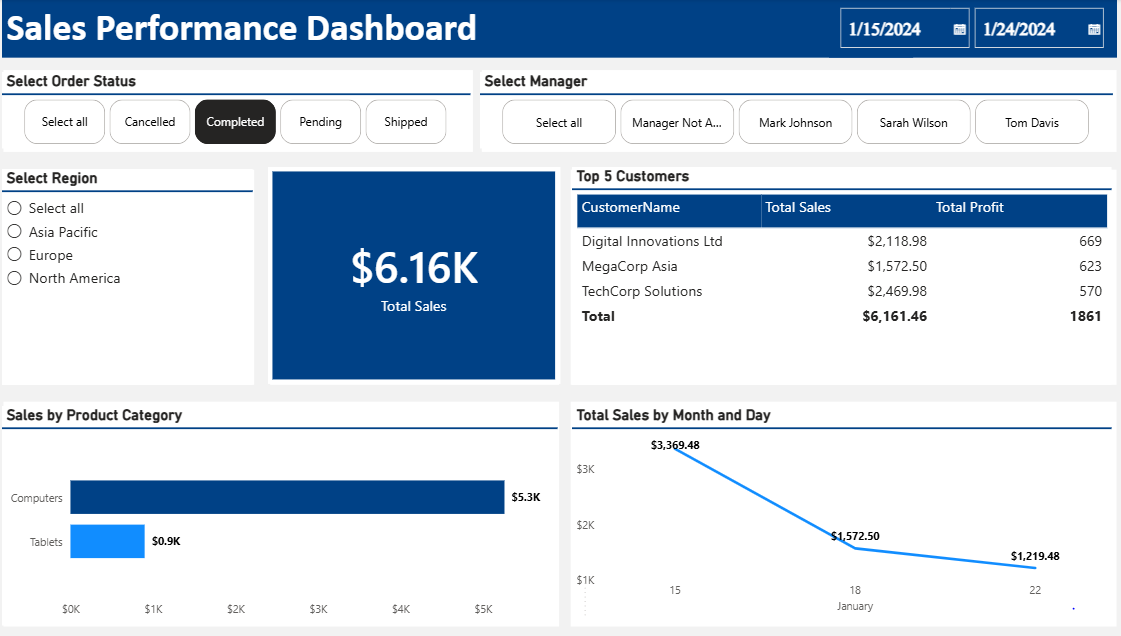

The dashboard page shown, as its layout file describes it:
{"tool":"powerbi","page":{"name":"Summary","canvas":[1280,720],"ordinal":0},"visuals":[{"type":"textbox","box":[12.3,0,1025,65.9],"z":0},{"type":"slicer","fields":{"Values":["Final_Sales_Data.TransactionDate"]},"box":[942.7,0,323.8,65.9],"z":1000},{"type":"advancedSlicerVisual","title":"Select Manager","fields":{"Values":["Hierachy_Manager.Manager"]},"box":[549.9,81.6,711.6,86.3],"z":2000},{"type":"cardVisual","fields":{"Data":["Measure_TBL.Total Sales"]},"box":[311.7,189,328.8,244.2],"z":5000},{"type":"advancedSlicerVisual","title":"Select Order Status","fields":{"Values":["Hierachy_Order Status.OrderStatus"]},"box":[12.3,81.6,526.8,86.3],"z":7000},{"type":"listSlicer","title":"Select Region","fields":{"Values":["Hierachy_Region.Region"]},"box":[12.3,191,281.9,243.4],"z":9000},{"type":"textbox","box":[653.9,487,607,218],"z":10000},{"type":"textbox","box":[653.9,387.7,607,45.5],"z":11000},{"type":"clusteredBarChart","title":"Sales by Product Category","fields":{"Category":["Dim_Products.Category"],"Y":["Measure_TBL.Total Sales"]},"box":[12.4,458,625,247],"z":12000},{"type":"lineChart","fields":{"Category":["Final_Sales_Data.TransactionDate.Variation.Date Hierarchy.Month","Final_Sales_Data.TransactionDate.Variation.Date Hierarchy.Day"],"Y":["Measure_TBL.Total Sales"]},"box":[653.9,458,607,247],"z":13000},{"type":"tableEx","title":"Top 5 Customers","fields":{"Values":["Dim_Customers.CustomerName","Measure_TBL.Total Sales","Measure_TBL.Total Profit"]},"box":[654,189,607.4,244.2],"z":14000}]}

Visuals, with their boxes in screenshot pixels (x1, y1, x2, y2), scaled from the page's 1280x720 canvas onto the 1121x636 screenshot:
textbox: (11, 0, 908, 58)
slicer - Final_Sales_Data.TransactionDate: (826, 0, 1109, 58)
"Select Manager" advancedSlicerVisual: (482, 72, 1105, 148)
cardVisual - Measure_TBL.Total Sales: (273, 167, 561, 383)
"Select Order Status" advancedSlicerVisual: (11, 72, 472, 148)
"Select Region" listSlicer: (11, 169, 258, 384)
textbox: (573, 430, 1104, 623)
textbox: (573, 342, 1104, 383)
"Sales by Product Category" clusteredBarChart: (11, 405, 558, 623)
lineChart - Final_Sales_Data.TransactionDate.Variation.Date Hierarchy.Month x Final_Sales_Data.TransactionDate.Variation.Date Hierarchy.Day: (573, 405, 1104, 623)
"Top 5 Customers" tableEx: (573, 167, 1105, 383)
